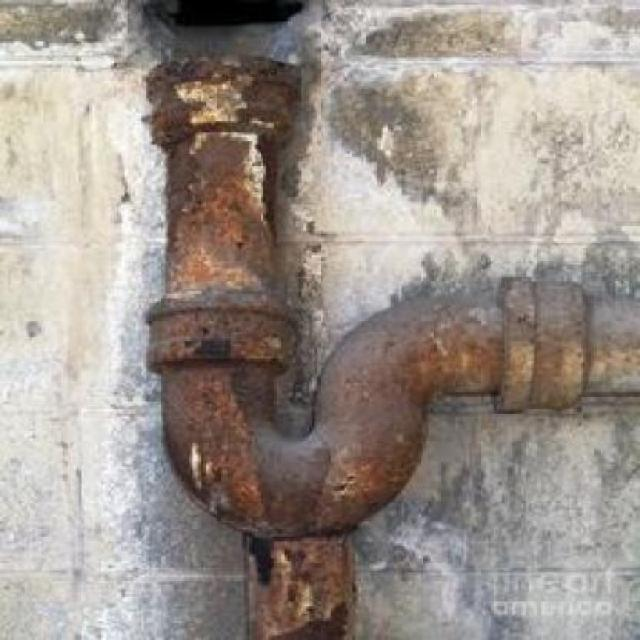corrosion: (138, 0, 638, 640)
